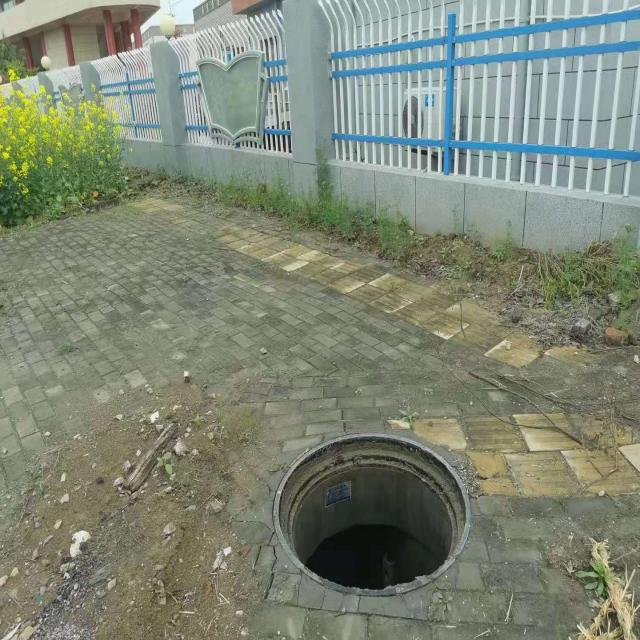Uncovered: (273, 431, 471, 595)
